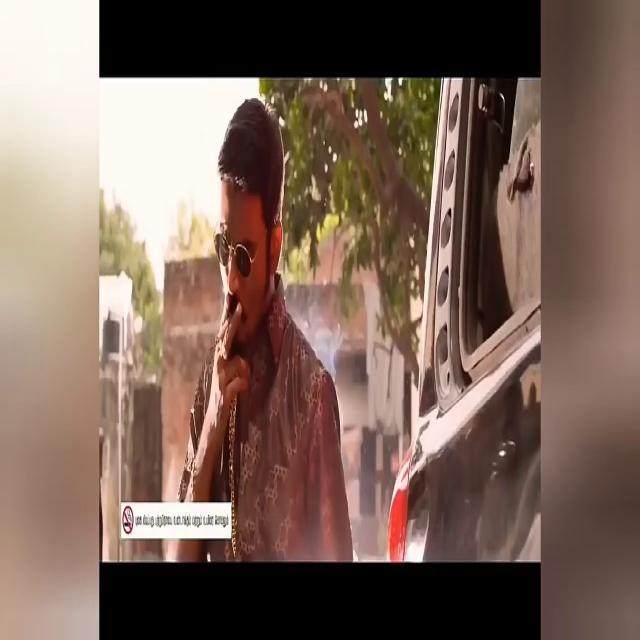smoking: (222, 185, 262, 424)
